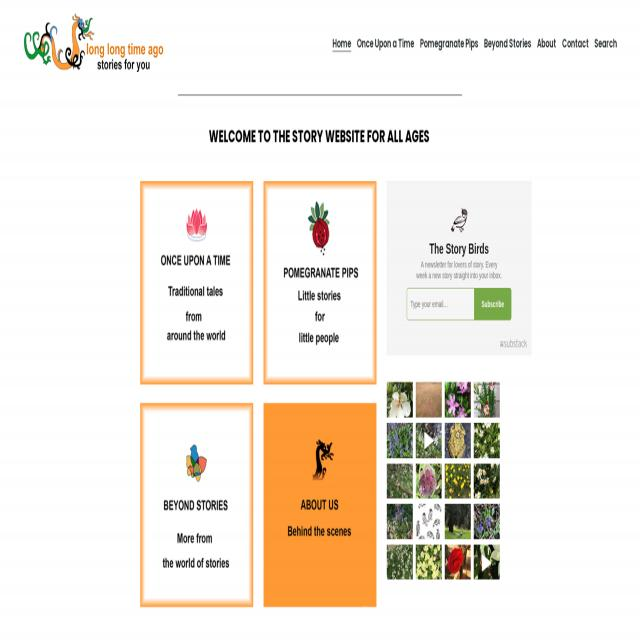button: (140, 181, 254, 385), (263, 181, 377, 385), (140, 403, 254, 607), (263, 404, 377, 608), (23, 12, 165, 74), (418, 33, 482, 56), (355, 32, 417, 55), (481, 32, 535, 55), (474, 288, 511, 320), (387, 381, 413, 418), (445, 382, 471, 418), (474, 382, 500, 418), (387, 423, 413, 459), (416, 422, 442, 458), (387, 463, 413, 499), (416, 463, 442, 499), (445, 463, 471, 499), (387, 503, 413, 539), (416, 504, 442, 540), (445, 504, 471, 540), (474, 503, 500, 539), (416, 382, 442, 417), (445, 423, 471, 458), (474, 423, 500, 458), (474, 464, 500, 499), (387, 545, 413, 580), (416, 545, 442, 580), (445, 545, 471, 580), (474, 544, 499, 580), (559, 32, 591, 56), (591, 32, 622, 56), (328, 32, 355, 54), (535, 32, 559, 55)
field: (407, 288, 474, 320)
